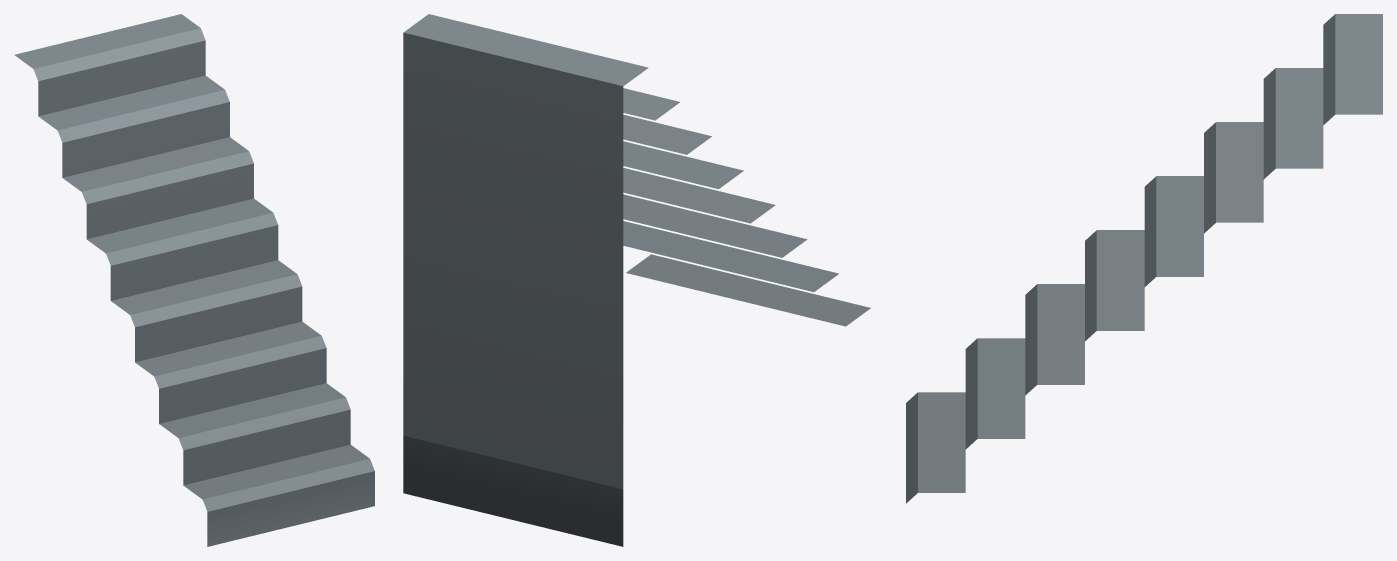
File: stairs_modular_center.gltf
The picture shows the model from 3 angles, left to right: view 1: azimuth 30°, elevation 25°; view 2: azimuth 150°, elevation 25°; view 3: azimuth 270°, elevation 25°; orthographic projection. The views are drawn at different scales.
Visible parts, largest first — view 1: stairs_modular_center; view 2: stairs_modular_center; view 3: stairs_modular_center.
Boxes of the visible parts, x1,y1,x2,y2 form: stairs_modular_center: [14, 14, 374, 546]; stairs_modular_center: [403, 14, 870, 546]; stairs_modular_center: [906, 14, 1382, 503].
Size of the model in its own units: 2 by 4 by 4.
1 material, 1 textured.
